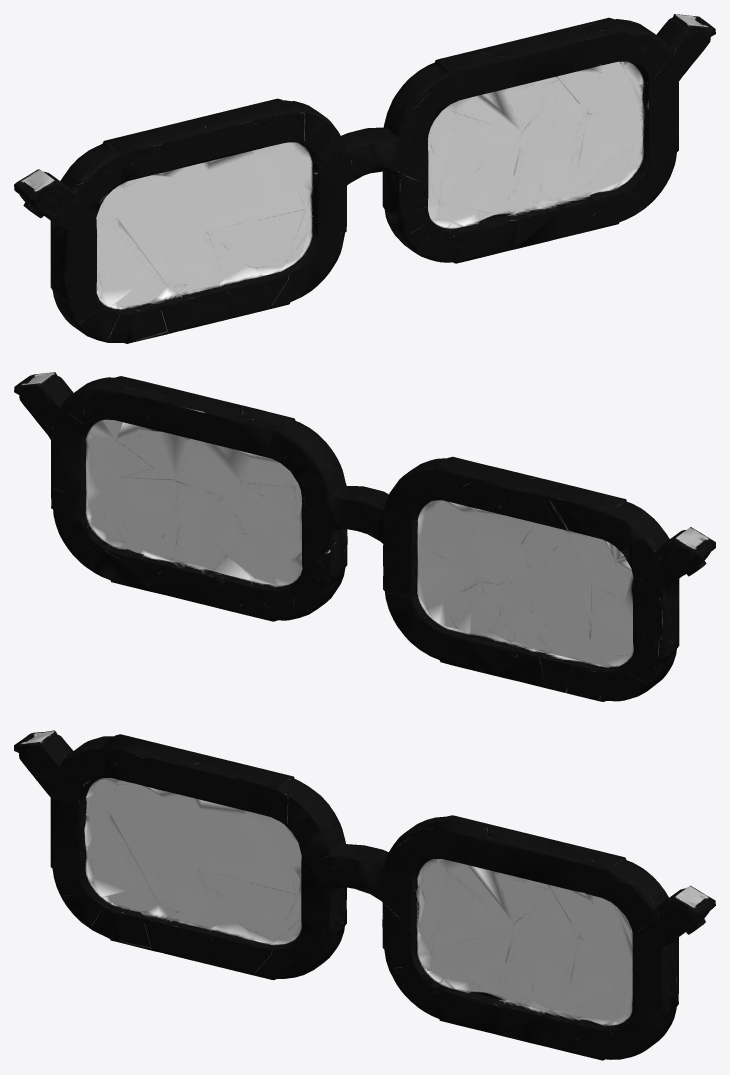
Rendered from glasses.glb.
The picture shows the model from 3 angles, top to bottom: view 1: azimuth 30°, elevation 25°; view 2: azimuth 150°, elevation 25°; view 3: azimuth 330°, elevation 25°; orthographic projection.
Bounding box in the file's own units: 1.9 × 0.5179 × 0.0812.
Materials: 1 (1 with a texture image).
